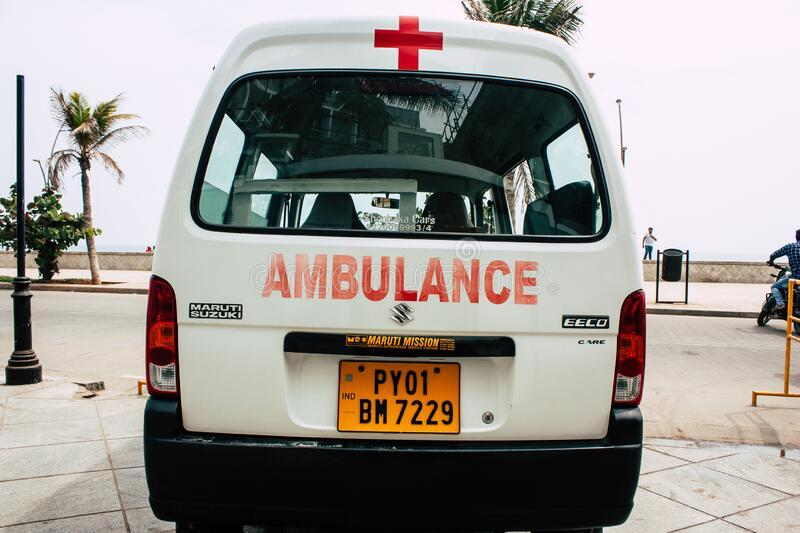Emergency-Vehicles: (140, 0, 692, 533)
